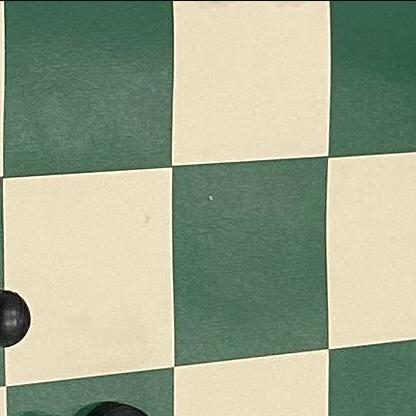black-pawn: (0, 233, 50, 372), (57, 392, 235, 416)
